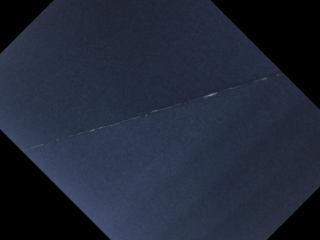crack: (20, 61, 284, 161)
